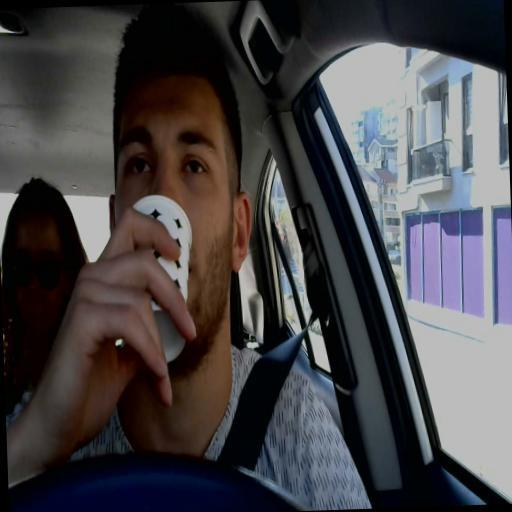Drinking: (86, 78, 253, 381)
